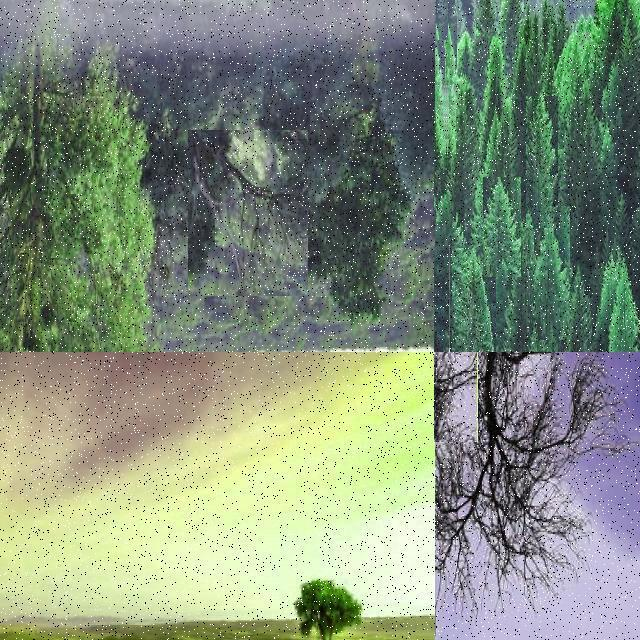tree: (435, 352, 621, 640), (0, 18, 160, 352), (274, 148, 412, 324), (188, 130, 308, 296), (382, 42, 434, 210), (560, 49, 600, 254), (534, 206, 570, 340), (452, 248, 496, 352), (292, 582, 368, 640), (526, 96, 558, 228), (434, 352, 478, 442), (451, 82, 481, 212), (483, 177, 521, 277), (602, 260, 640, 352), (481, 99, 519, 189), (435, 189, 463, 307), (436, 82, 456, 222), (560, 272, 592, 352), (435, 134, 449, 310), (435, 102, 447, 294), (436, 214, 452, 350), (594, 0, 634, 48), (484, 32, 508, 108), (436, 160, 452, 272), (434, 246, 450, 352), (434, 108, 450, 210), (438, 88, 454, 188), (435, 66, 449, 170), (436, 208, 448, 324), (435, 163, 447, 273), (439, 16, 457, 84), (434, 147, 446, 245), (435, 76, 447, 168), (498, 1, 522, 44), (434, 135, 446, 221), (434, 64, 446, 150), (450, 0, 472, 46), (435, 284, 449, 352), (435, 259, 445, 347), (435, 48, 445, 136), (474, 0, 498, 36), (435, 153, 445, 239), (435, 270, 445, 352), (450, 0, 468, 44), (435, 280, 445, 352), (574, 0, 594, 34), (434, 304, 446, 352), (435, 0, 447, 48), (436, 80, 444, 152), (435, 50, 445, 106), (436, 0, 448, 40), (436, 3, 444, 61), (435, 124, 443, 180), (436, 36, 444, 92), (574, 0, 586, 34), (434, 0, 446, 32), (547, 0, 561, 24), (434, 18, 442, 58), (624, 0, 636, 26), (435, 0, 443, 36)
